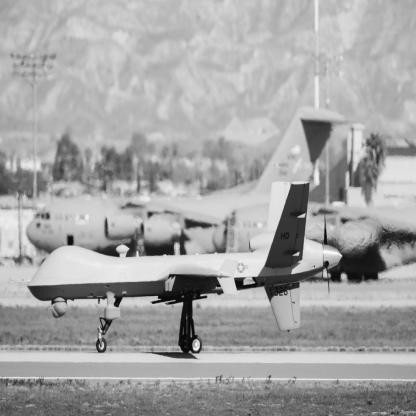C17: (26, 106, 368, 265), (213, 200, 416, 283)
MQ9: (9, 181, 344, 355)
